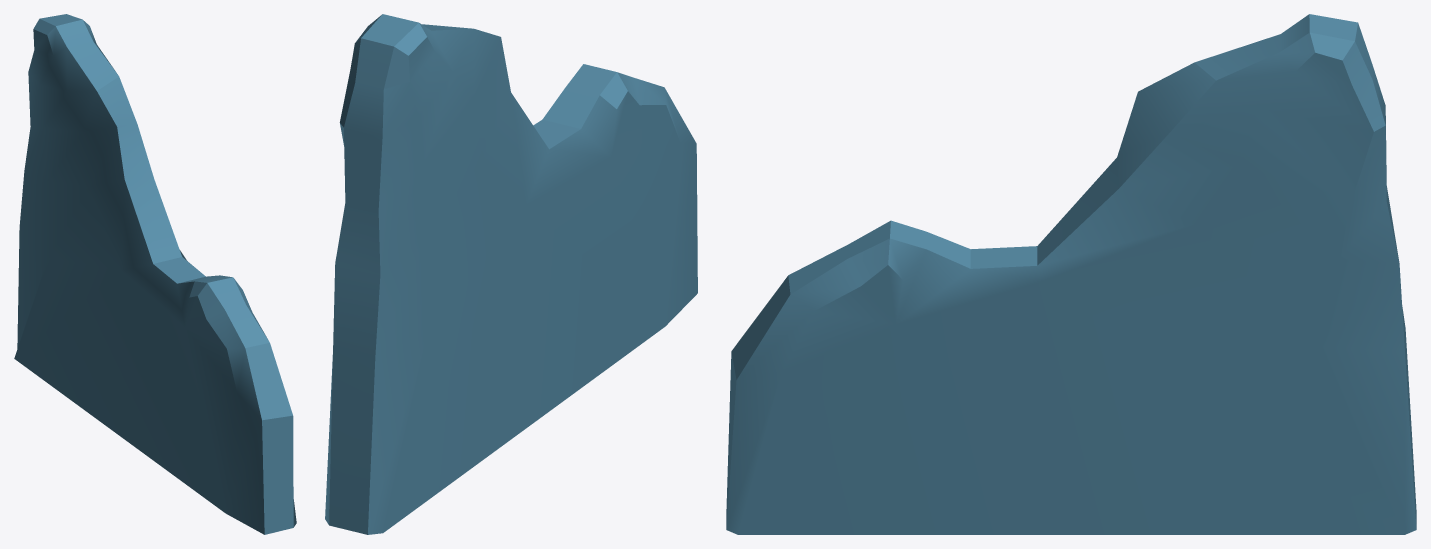
File: GJ_Decor_Wall_02.fbx
3 renders of one model, left to right at view 1: azimuth 30°, elevation 25°; view 2: azimuth 150°, elevation 25°; view 3: azimuth 270°, elevation 25°, orthographic. The views are drawn at different scales.
Parts seen in each view (by area): view 1: GJ_Decor_Wall_02; view 2: GJ_Decor_Wall_02; view 3: GJ_Decor_Wall_02.
Part boxes in pixels (x1,y1,x2,y2): GJ_Decor_Wall_02: (14,14,296,534); GJ_Decor_Wall_02: (325,14,697,534); GJ_Decor_Wall_02: (726,14,1416,534).
Size of the model in its own units: 2.15 by 16.82 by 21.19.
